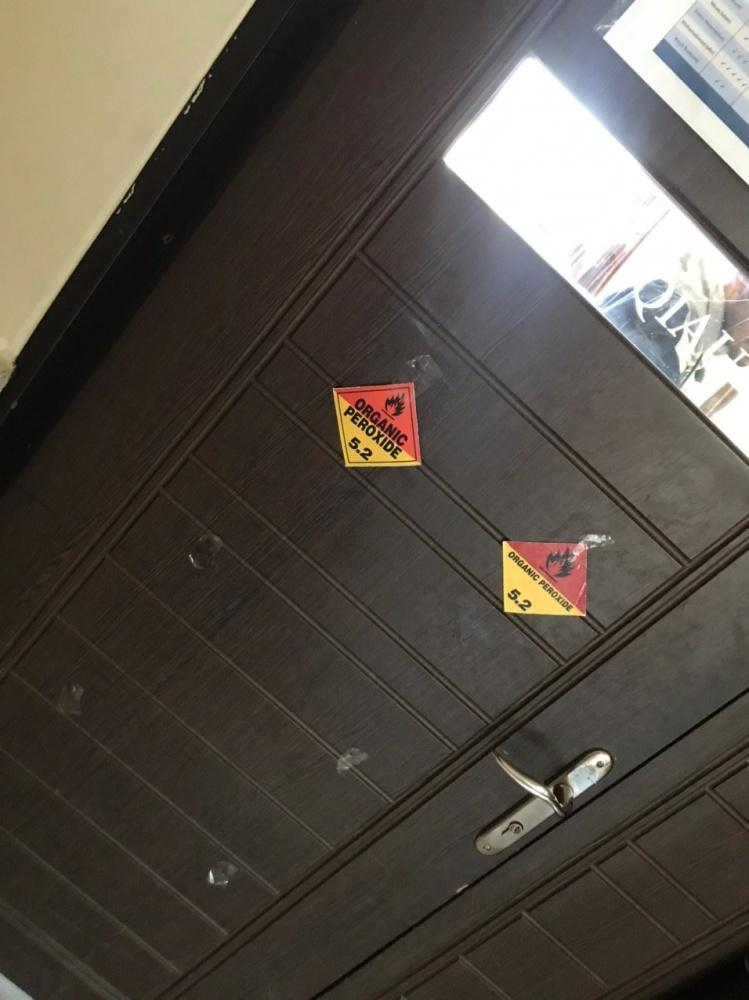organic-peroxide: (330, 383, 422, 474), (500, 538, 589, 621)
